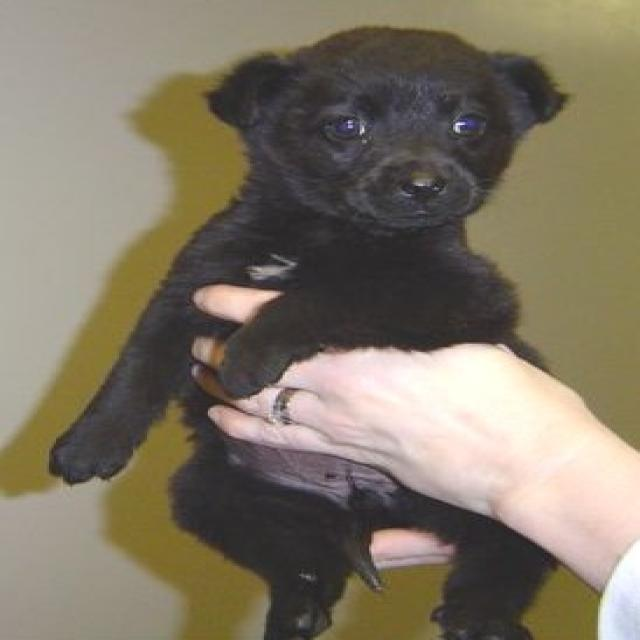Dogs: (47, 23, 572, 638)
